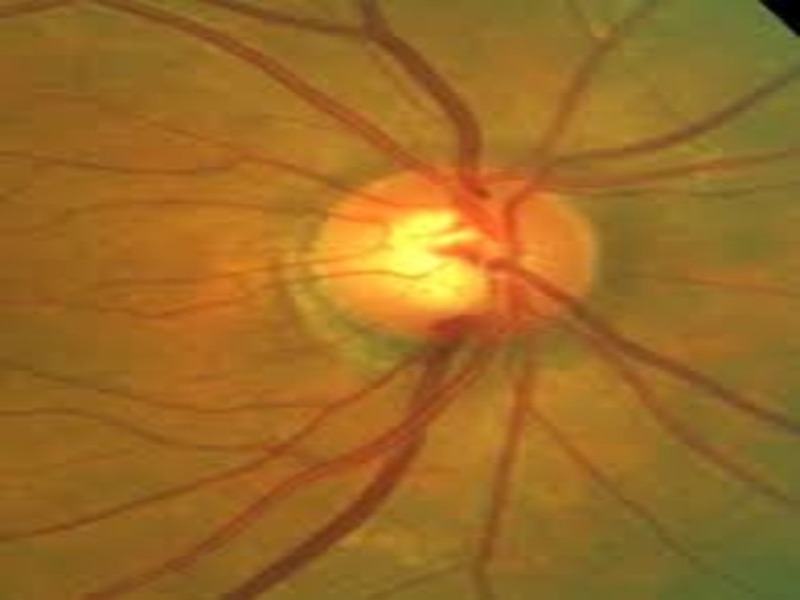Optic Cup: (380, 210, 473, 301)
Optic Disc: (313, 168, 596, 344)
